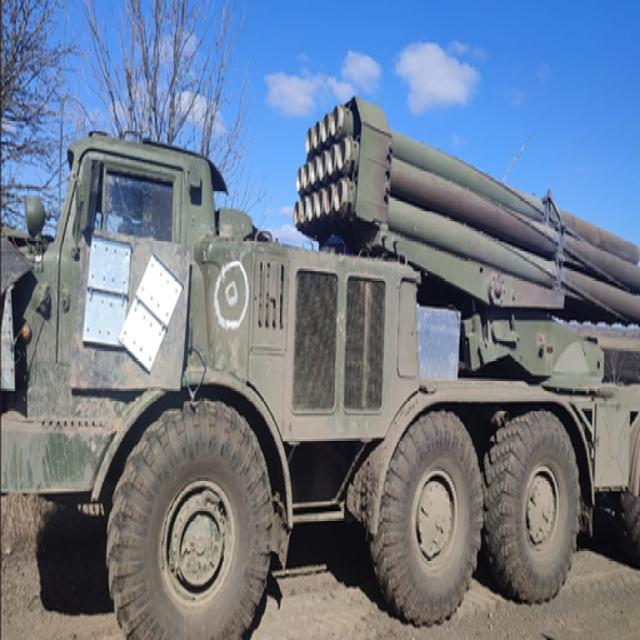MLRS: (0, 58, 639, 636)
